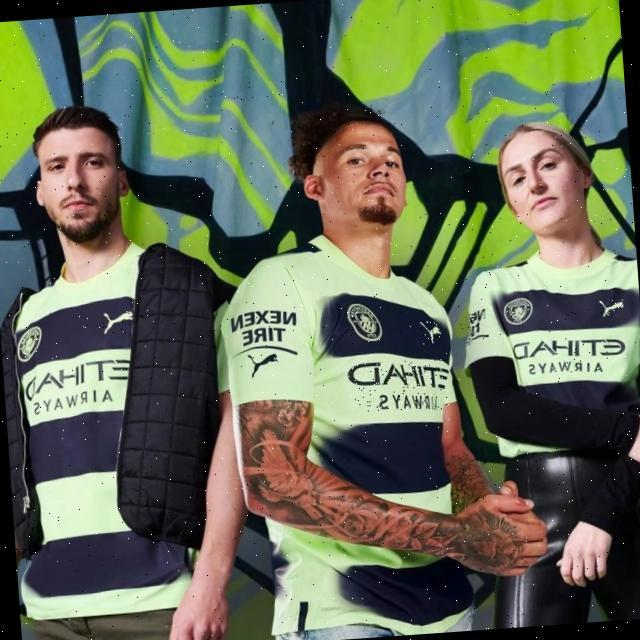Etihad Airways: (24, 358, 134, 416), (347, 356, 451, 415), (512, 334, 627, 378)
Puma: (247, 353, 278, 379), (102, 310, 133, 334), (419, 320, 441, 344), (600, 299, 624, 317)
